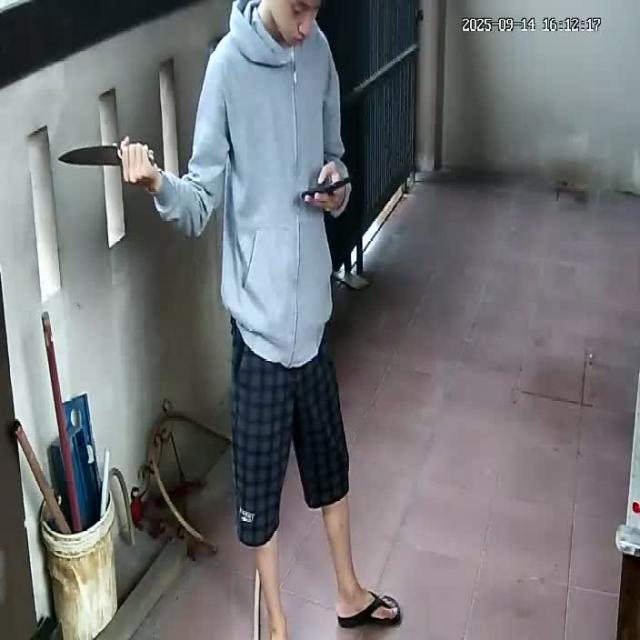senjata_tajam: (57, 141, 125, 168)
